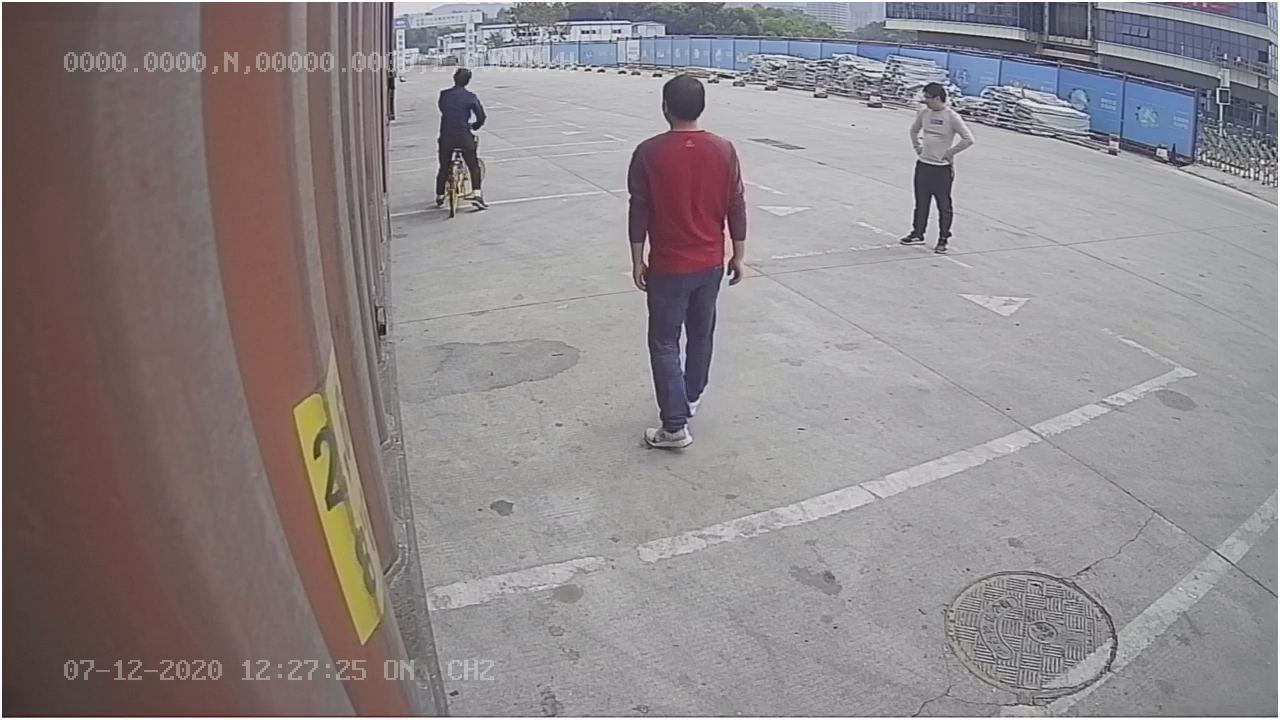person: (623, 69, 751, 454)
